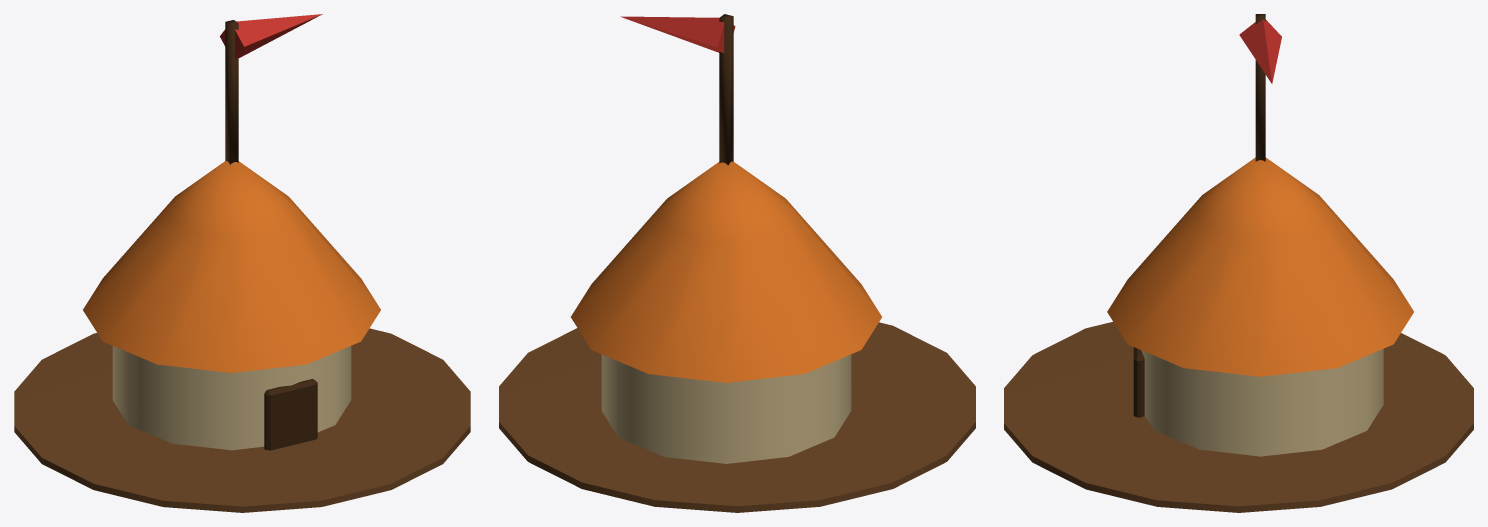
3 renders of one model, left to right at view 1: azimuth 30°, elevation 25°; view 2: azimuth 150°, elevation 25°; view 3: azimuth 270°, elevation 25°, orthographic. The views are drawn at different scales.
Parts seen in each view (by area): view 1: vila_0_base, vila_1_torreta; view 2: vila_0_base, vila_1_torreta; view 3: vila_0_base, vila_1_torreta.
Part boxes in pixels (x1,y1,x2,y2): vila_0_base: (14,161,470,512); vila_1_torreta: (220,14,322,164); vila_0_base: (499,161,975,512); vila_1_torreta: (620,14,735,165); vila_0_base: (1004,157,1473,512); vila_1_torreta: (1239,14,1281,161).
Size of the model in its own units: 1.32 by 1.21 by 1.3.
